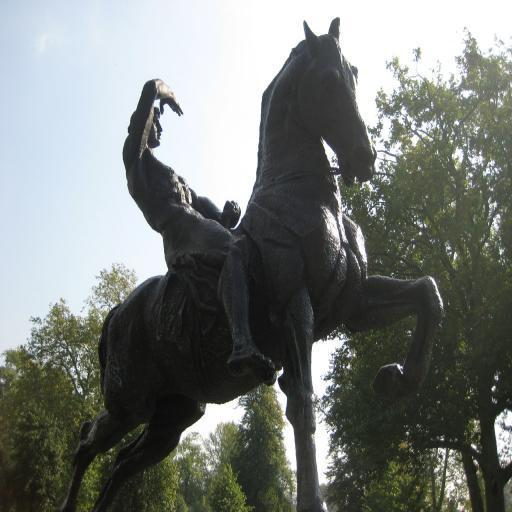horse: (60, 18, 445, 511)
